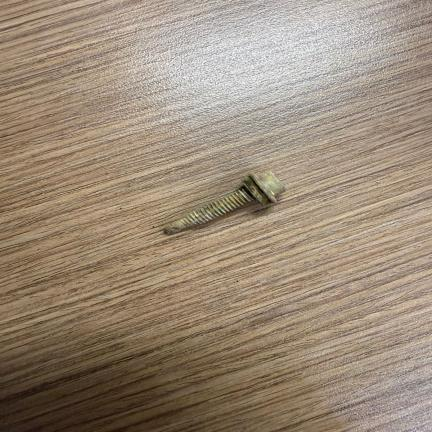karat: (164, 171, 285, 234)
